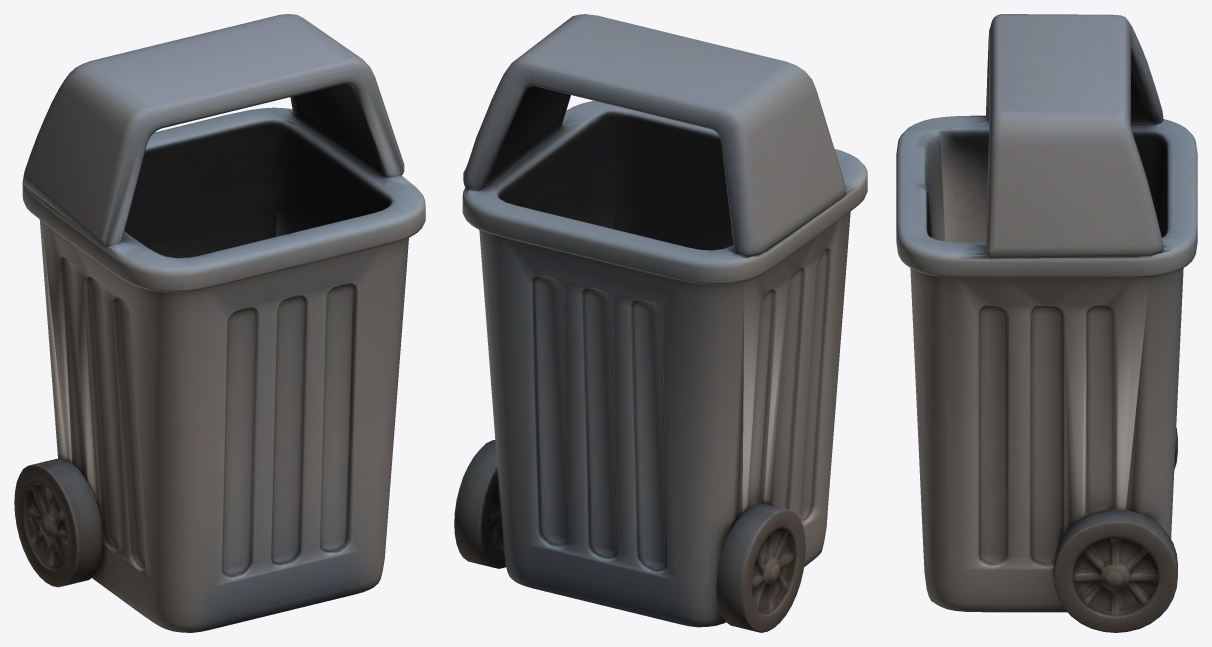
File: garbage_bin_realistic_airport_0d0451e4_v1.glb
3 views of the same model, side by side, from view 1: azimuth 30°, elevation 25°; view 2: azimuth 150°, elevation 25°; view 3: azimuth 270°, elevation 25° (orthographic). The views are drawn at different scales.
Parts seen in each view (by area): view 1: mesh_input; view 2: mesh_input; view 3: mesh_input.
Boxes of the visible parts, x1,y1,x2,y2 form: mesh_input: (14, 14, 425, 632); mesh_input: (454, 14, 867, 632); mesh_input: (896, 14, 1197, 632).
Size of the model in its own units: 1.19 by 1.9 by 1.04.
Materials: 1 (1 with a texture image).
